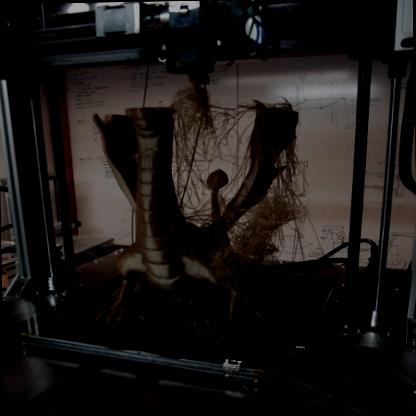fail: (227, 182, 319, 274), (172, 89, 251, 169)
